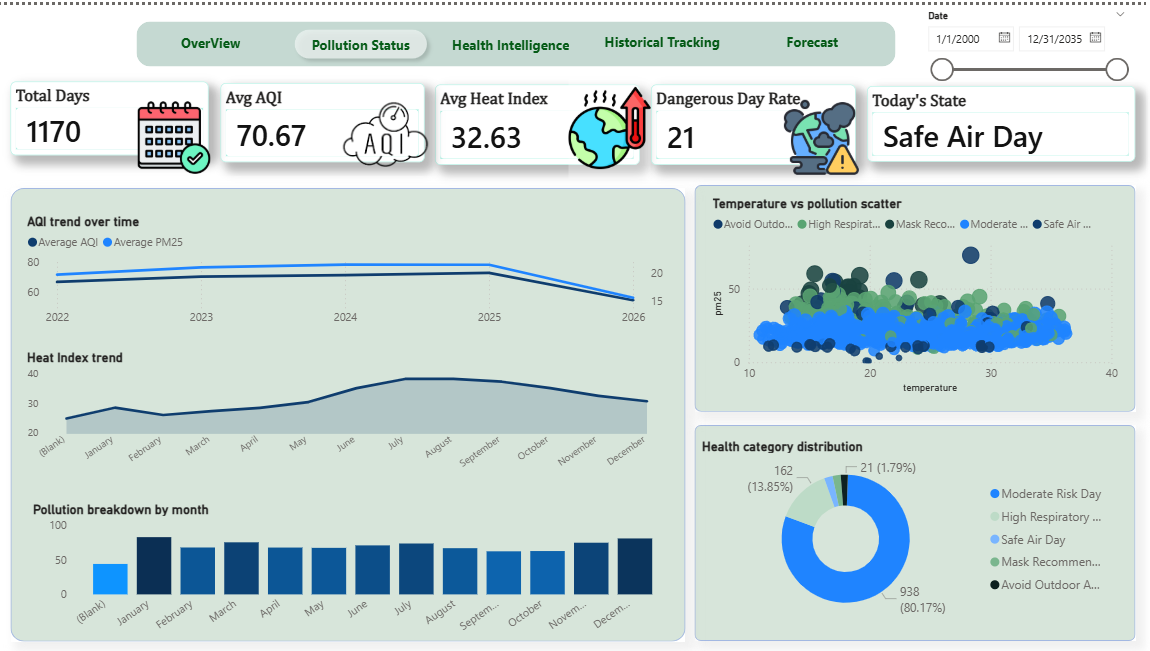

Layout of this report page (visuals, bound fields, positions):
{"tool":"powerbi","page":{"name":"Page 1","canvas":[1280,720],"ordinal":0},"visuals":[{"type":"cardVisual","fields":{"Data":["DAX.Total Days","DAX.Average AQI","DAX.Average Heat Index","DAX.Dangerous Days Rate","DAX.Latest Health Category"]},"box":[10,0,910,146.7],"z":0},{"type":"lineChart","fields":{"Category":["DimDate.month","DimDate.year"],"Y":["DAX.Average AQI"],"Y2":["DAX.Average PM25"]},"box":[10,123.3,910,126.7],"z":1},{"type":"actionButton","box":[0,0,100,40],"z":2},{"type":"lineChart","fields":{"Category":["DimDate.month","DimDate.year"],"Y":["DAX.Average Heat Index"]},"box":[0,275,910,113.3],"z":3},{"type":"donutChart","fields":{"Category":["EnvironmentalFeatures.health_category"],"Y":["DAX.Total Days"]},"box":[0,538.3,356.7,181.7],"z":4},{"type":"columnChart","fields":{"Category":["DimDate.month"],"Y":["DAX.Average AQI"]},"box":[0,388.3,870,150],"z":5},{"type":"scatterChart","fields":{"X":["EnvironmentalFeatures.temperature"],"Y":["EnvironmentalFeatures.pm25"],"Series":["EnvironmentalFeatures.health_category"],"Size":["Sum(EnvironmentalFeatures.aqi)"]},"box":[935,186.7,345,295],"z":6},{"type":"slicer","fields":{"Values":["DimDate.date"]},"box":[1043.3,538.3,236.7,181.7],"z":7}]}

Visuals, with their boxes in screenshot pixels (x1, y1, x2, y2), scaled from the page's 1280x720 canvas onto the 1150x651 screenshot:
cardVisual - DAX.Total Days x DAX.Average AQI: region(9, 0, 827, 133)
lineChart - DimDate.month x DimDate.year: region(9, 111, 827, 226)
actionButton: region(0, 0, 90, 36)
lineChart - DimDate.month x DimDate.year: region(0, 249, 818, 351)
donutChart - EnvironmentalFeatures.health_category x DAX.Total Days: region(0, 487, 320, 650)
columnChart - DimDate.month x DAX.Average AQI: region(0, 351, 782, 487)
scatterChart - EnvironmentalFeatures.temperature x EnvironmentalFeatures.pm25: region(840, 169, 1149, 436)
slicer - DimDate.date: region(937, 487, 1149, 650)
